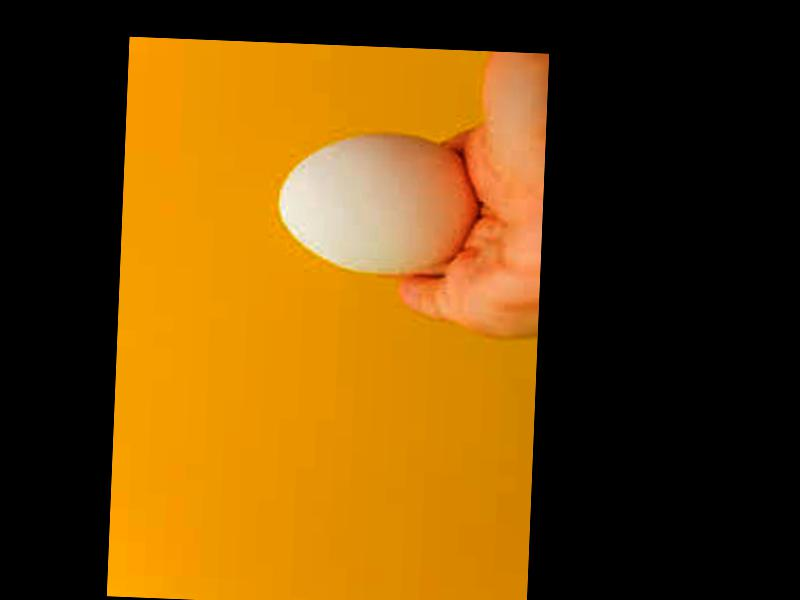Eggs: (274, 134, 479, 277)
